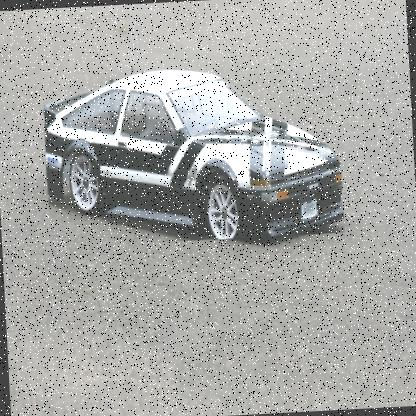Car: (36, 0, 346, 250)
